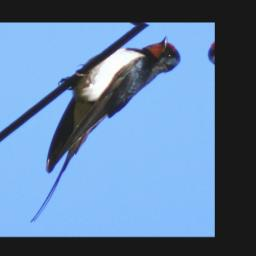Swallow: (7, 34, 200, 225)
